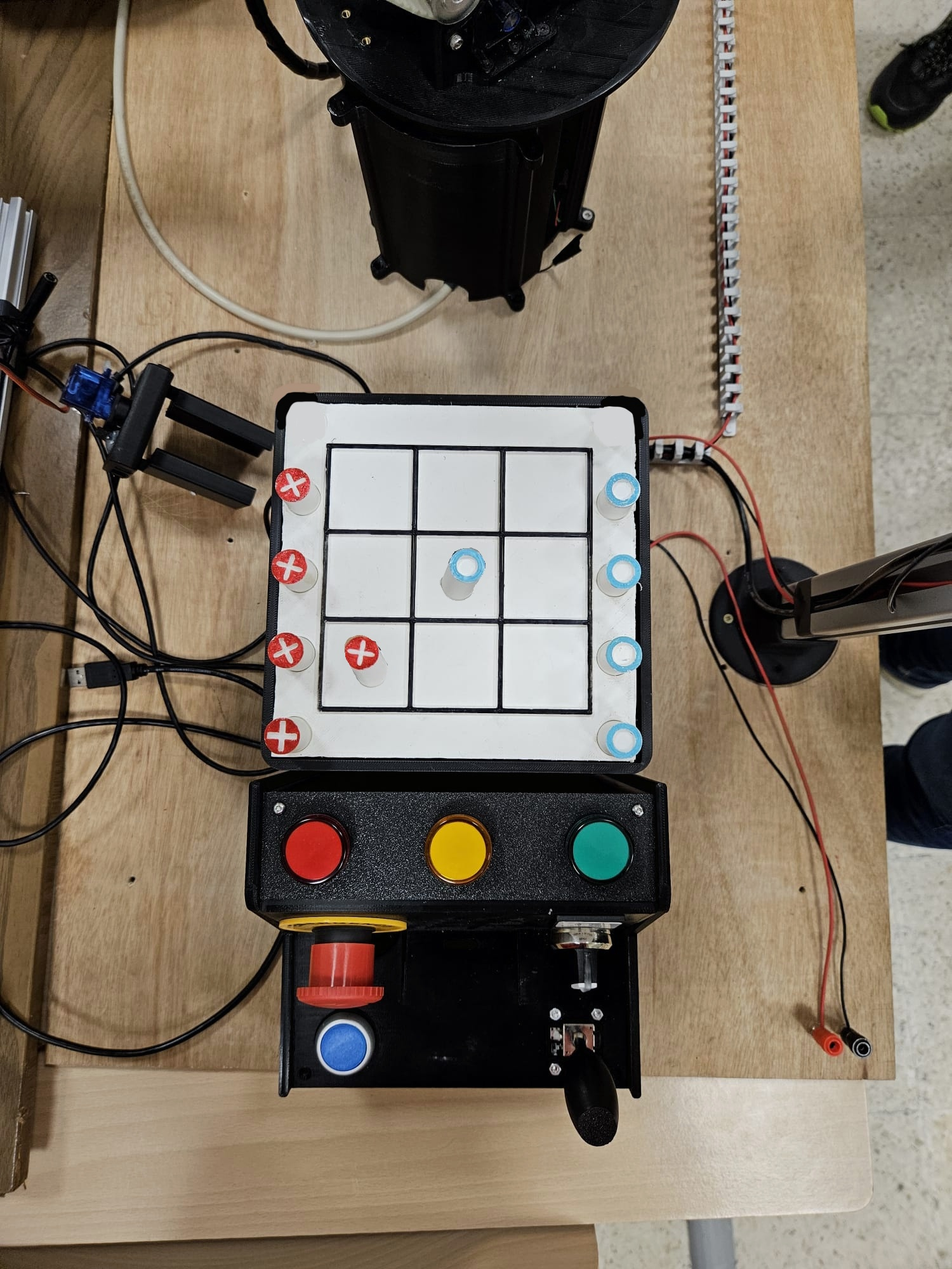blue circle: (605, 723, 642, 760), (605, 636, 641, 673), (604, 473, 639, 508), (449, 549, 485, 583), (606, 554, 640, 589)
board: (264, 400, 640, 763)
cells: (321, 622, 409, 709), (413, 622, 498, 709), (503, 623, 588, 709), (414, 534, 498, 619), (503, 537, 589, 619), (326, 534, 409, 617), (328, 447, 412, 529), (506, 450, 589, 532), (418, 449, 498, 532)
grid: (317, 444, 592, 714)
red cross: (263, 718, 300, 754), (271, 548, 307, 584), (267, 632, 303, 667), (275, 468, 310, 502), (345, 636, 379, 669)
